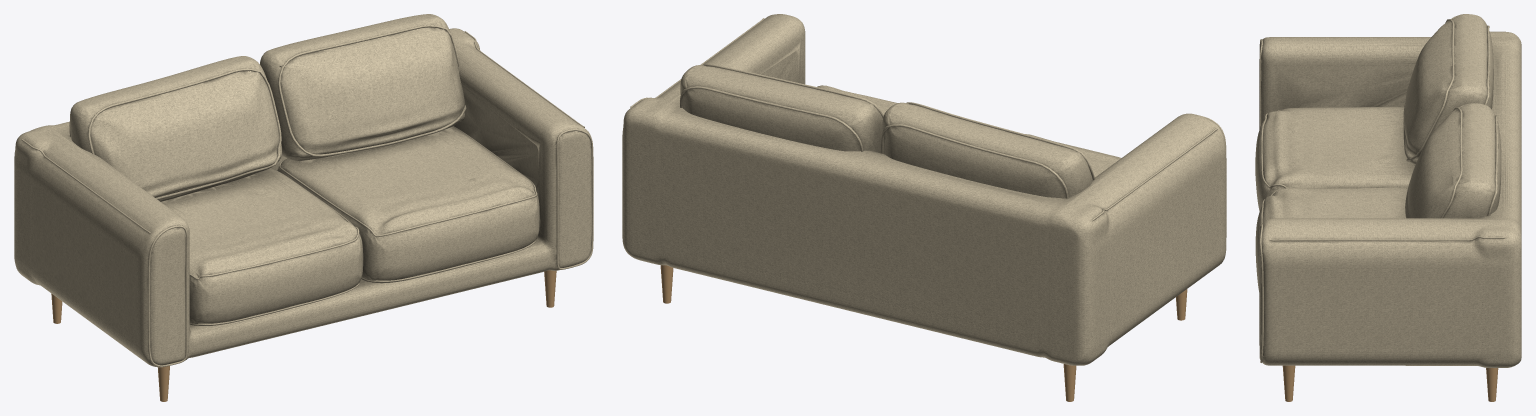
The model's file is lino-arena.gltf.
The picture shows the model from 3 angles, left to right: view 1: azimuth 30°, elevation 25°; view 2: azimuth 150°, elevation 25°; view 3: azimuth 270°, elevation 25°; orthographic projection. The views are drawn at different scales.
Visible parts, largest first — view 1: tela_ar, madera_ar; view 2: tela_ar, madera_ar; view 3: tela_ar, madera_ar.
Part boxes in pixels (box(x1,y1,x2,y2)): tela_ar: box(14, 14, 593, 367); madera_ar: box(51, 270, 556, 401); tela_ar: box(622, 14, 1226, 365); madera_ar: box(660, 265, 1187, 401); tela_ar: box(1255, 14, 1521, 367); madera_ar: box(1282, 365, 1498, 401).
Size of the model in its own units: 1.7 by 0.8275 by 0.9121.
2 materials, 2 textured.
